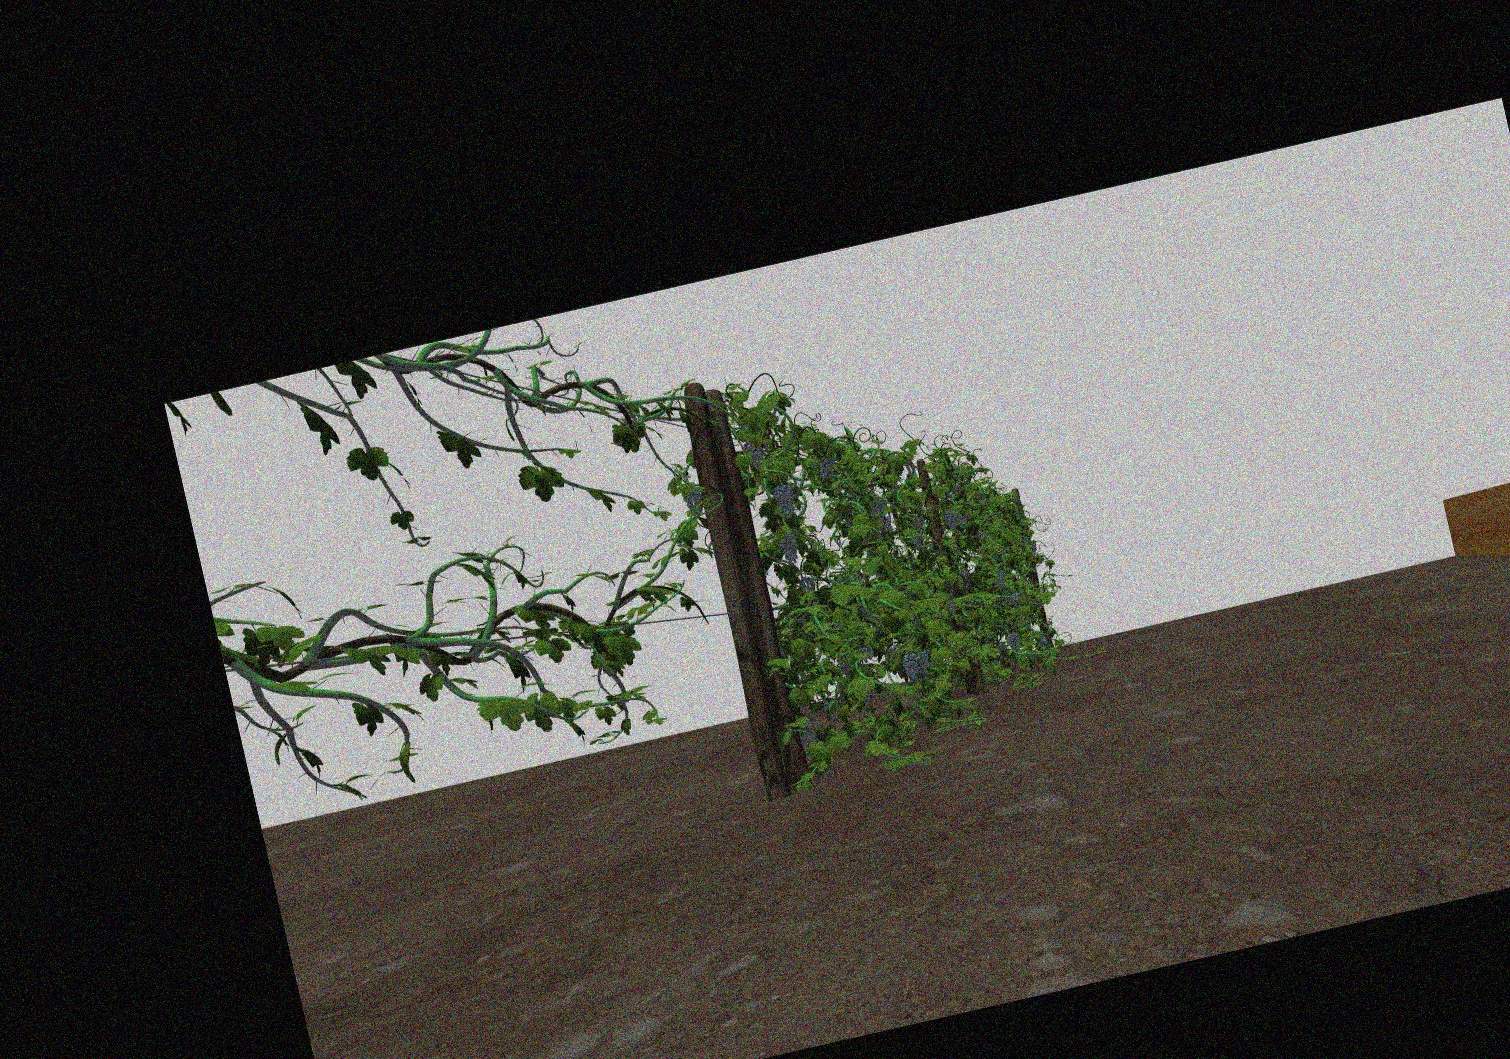grape: (775, 483, 796, 519), (779, 530, 797, 563), (684, 485, 702, 517), (744, 443, 764, 470), (903, 654, 920, 679), (918, 647, 934, 673), (819, 455, 835, 480), (1007, 631, 1022, 651), (872, 500, 886, 521), (945, 509, 958, 529), (911, 513, 925, 530), (994, 570, 1006, 589), (911, 534, 923, 548), (1040, 634, 1048, 648), (1030, 538, 1037, 551)
